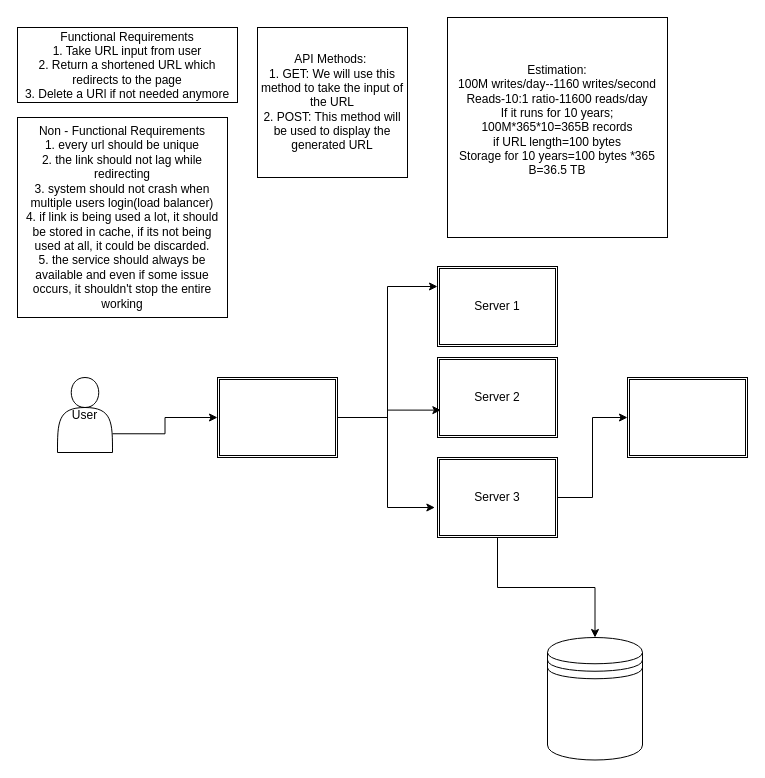
Image size: 765x778. Some labels were removed from this diagram. The shapes that lost their labels are listed below. From the top down, each one's centre as x and y in pixels, then its label:
At (x=277, y=417): "Load Balancer".
At (x=687, y=417): "Cache".
At (x=594, y=698): "Database".
